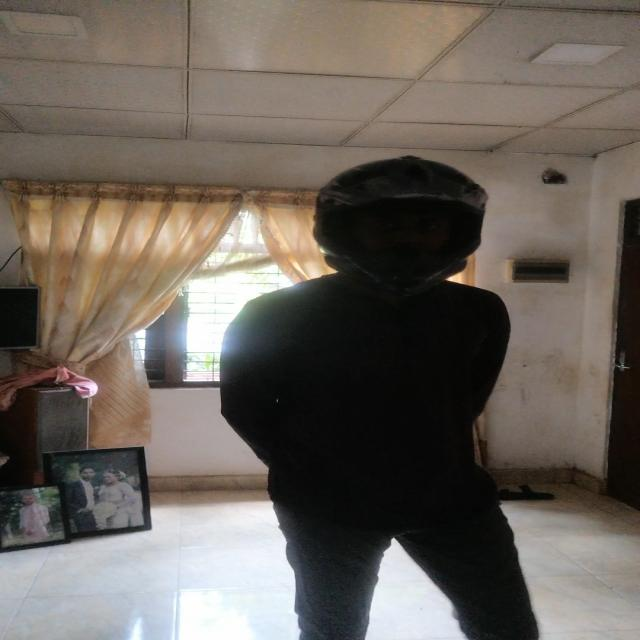Helmet_Wearer: (277, 158, 482, 298)
Person: (200, 151, 535, 632)
